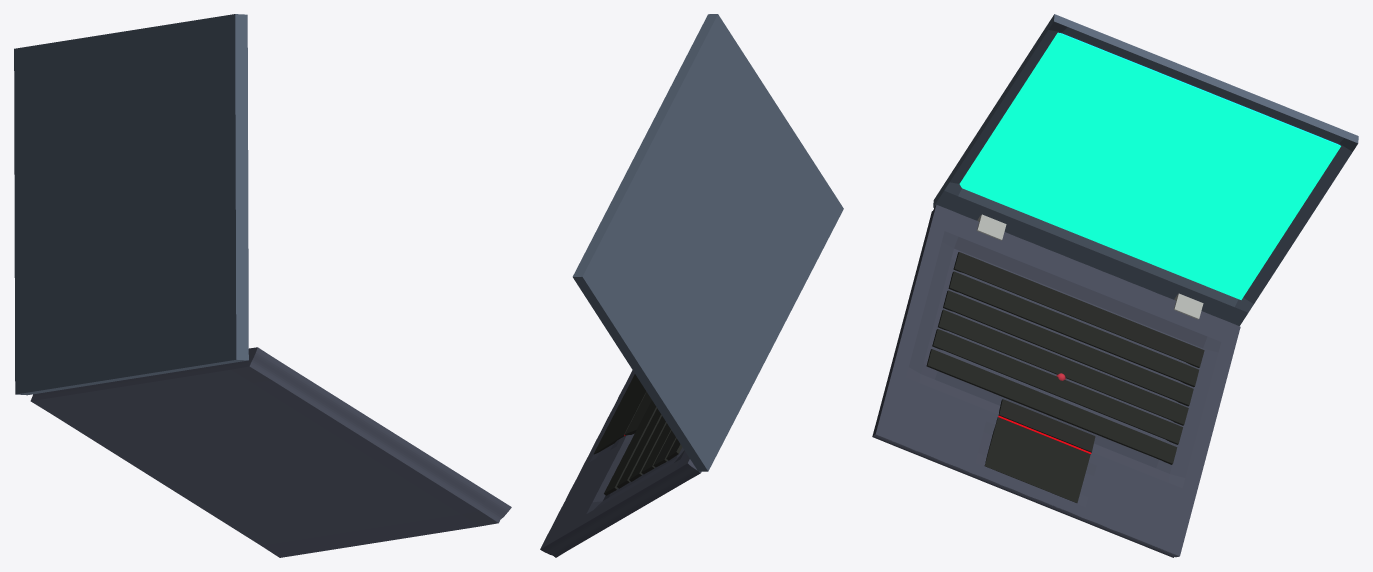
Rendered from laptop-DbSkeGbP.glb.
3 renders of one model, left to right at view 1: azimuth 30°, elevation 25°; view 2: azimuth 150°, elevation 25°; view 3: azimuth 270°, elevation 25°, orthographic. The views are drawn at different scales.
Parts seen in each view (by area): view 1: Sphere; view 2: Sphere; view 3: Sphere.
Boxes of the visible parts, x1,y1,x2,y2 form: Sphere: (14, 14, 511, 557); Sphere: (540, 14, 843, 557); Sphere: (872, 14, 1358, 557).
Bounding box in the file's own units: 0.2387 × 0.5345 × 0.4736.
Materials: 3 (3 with a texture image).
